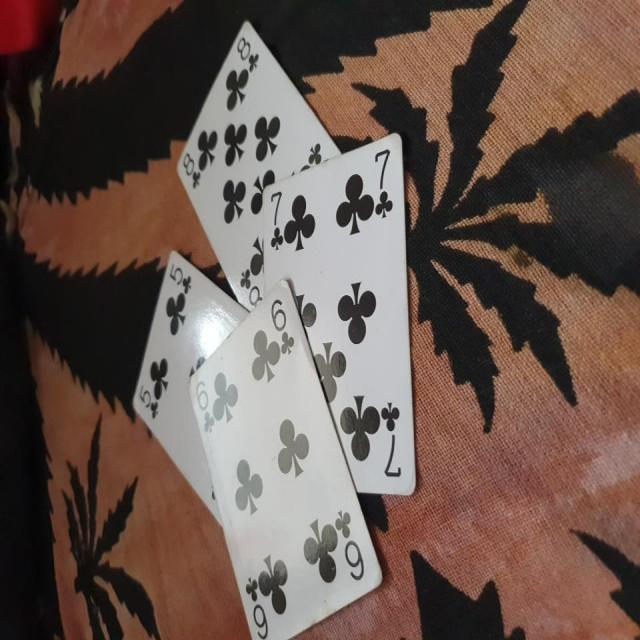5 Trefoils: (131, 249, 251, 526)
6 Trefoils: (185, 279, 380, 640)
7 Trefoils: (260, 132, 419, 498)
8 Trefoils: (172, 18, 345, 306)
